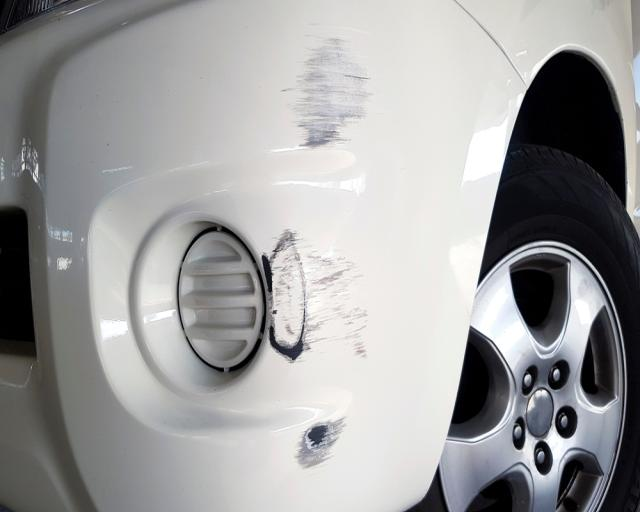scratch: (262, 224, 368, 474), (283, 24, 375, 158)
